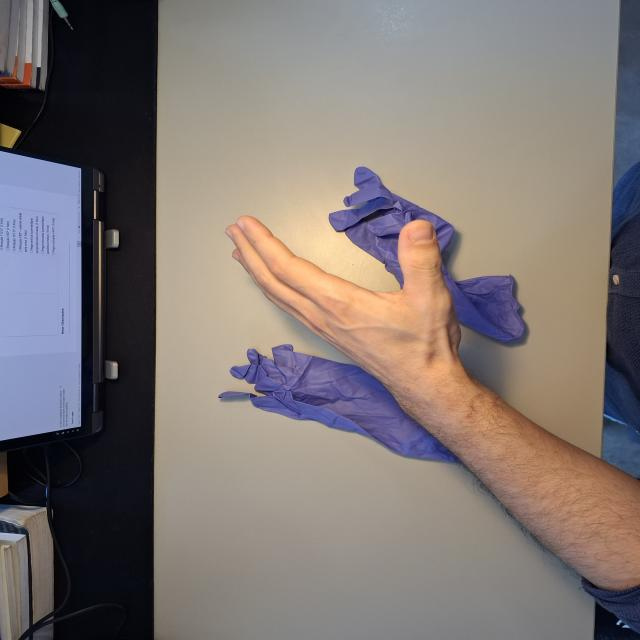glove_off: (222, 216, 471, 380)
